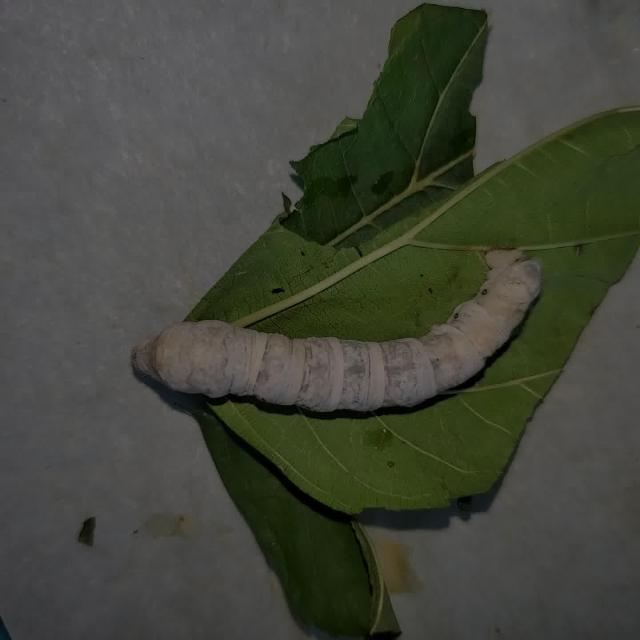Grasserie: (116, 212, 556, 424)
